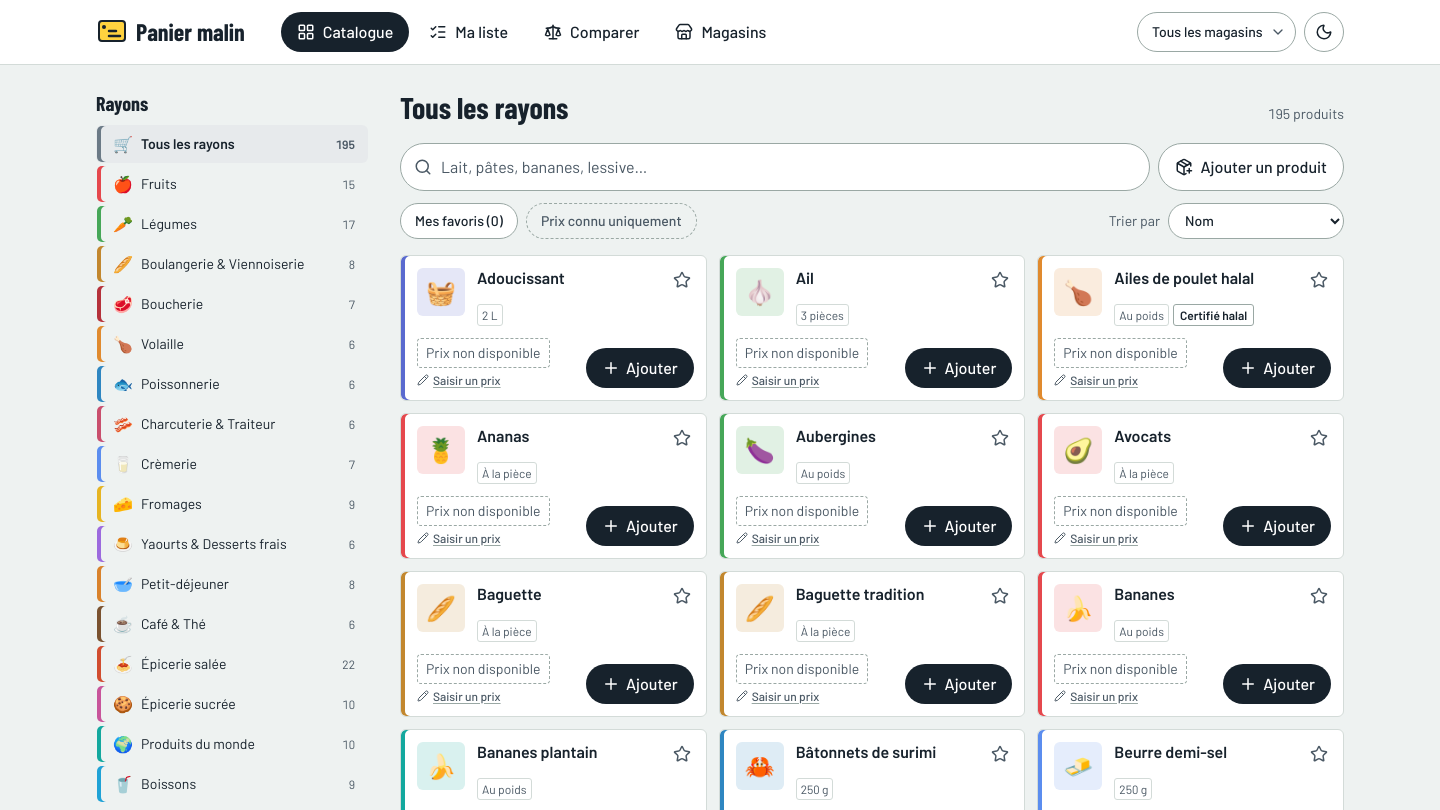
catalogue › recherche sans tenir compte des accents et filtre par rayon
Type "creme epaisse" into the search field named "Rechercher un produit".
click(775, 166); type("creme epaisse")  # box [400,142,1150,190]
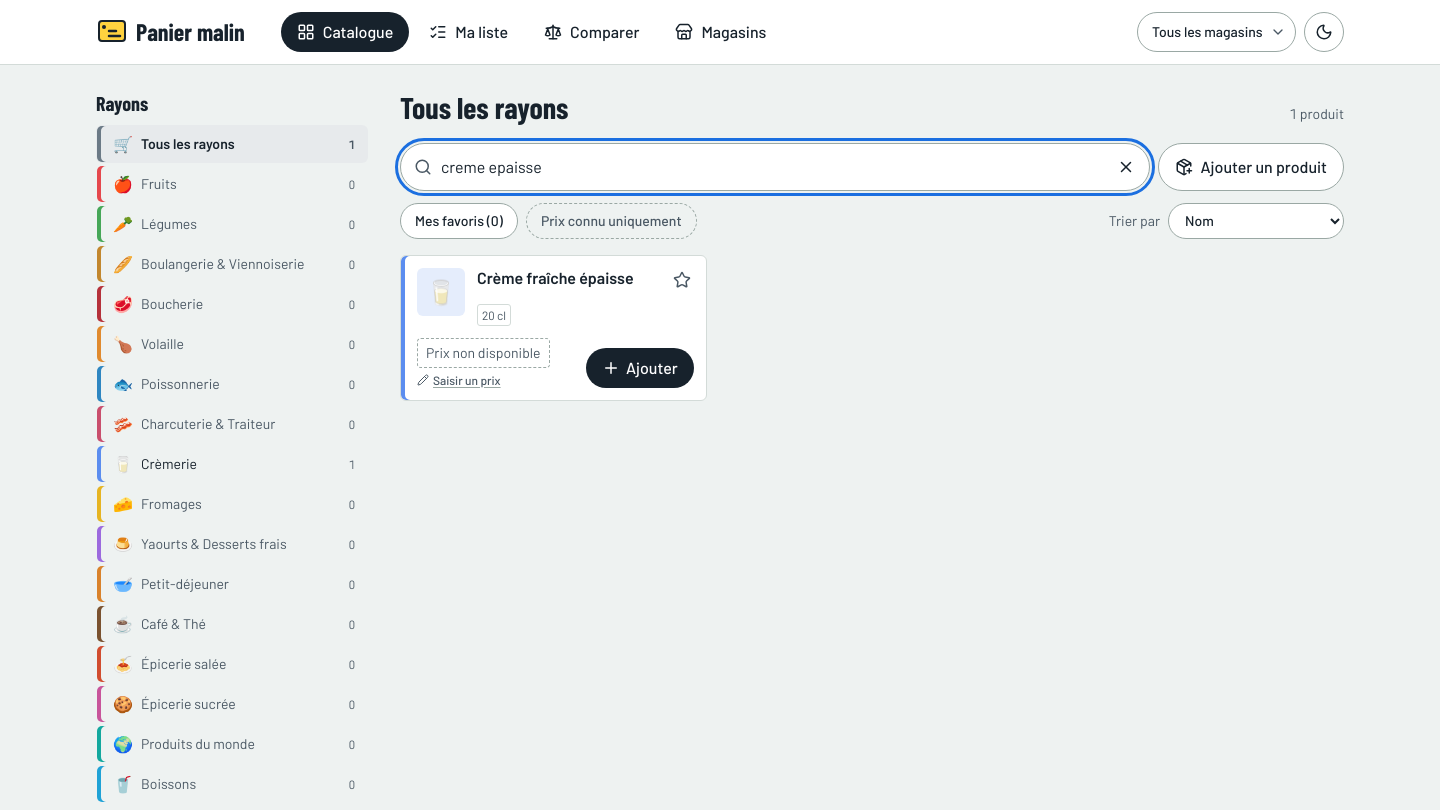
Result: the number of headings "Crème fraîche épaisse" is 1 at [477,268,660,288]
Click the button "🍎 Fruits 0".
click(159, 184)  # box [96,165,368,203]
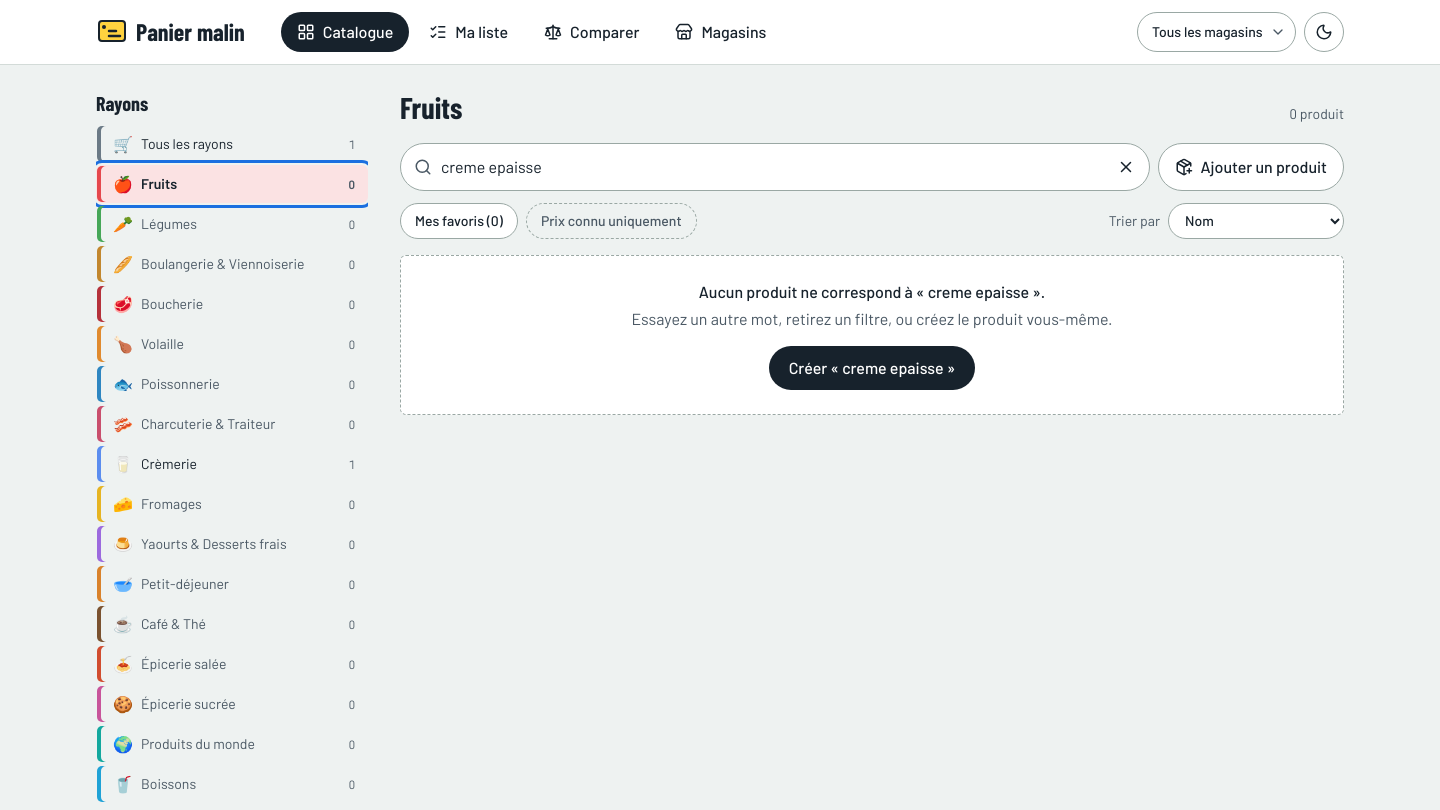
Result: the text "Aucun produit ne correspond à « creme epaisse »." is shown at [699,282,1045,300]
